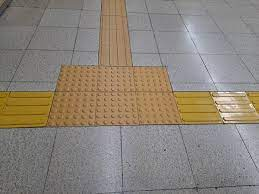guide_blocks: (1, 92, 259, 126), (55, 65, 172, 92), (100, 1, 133, 66)
